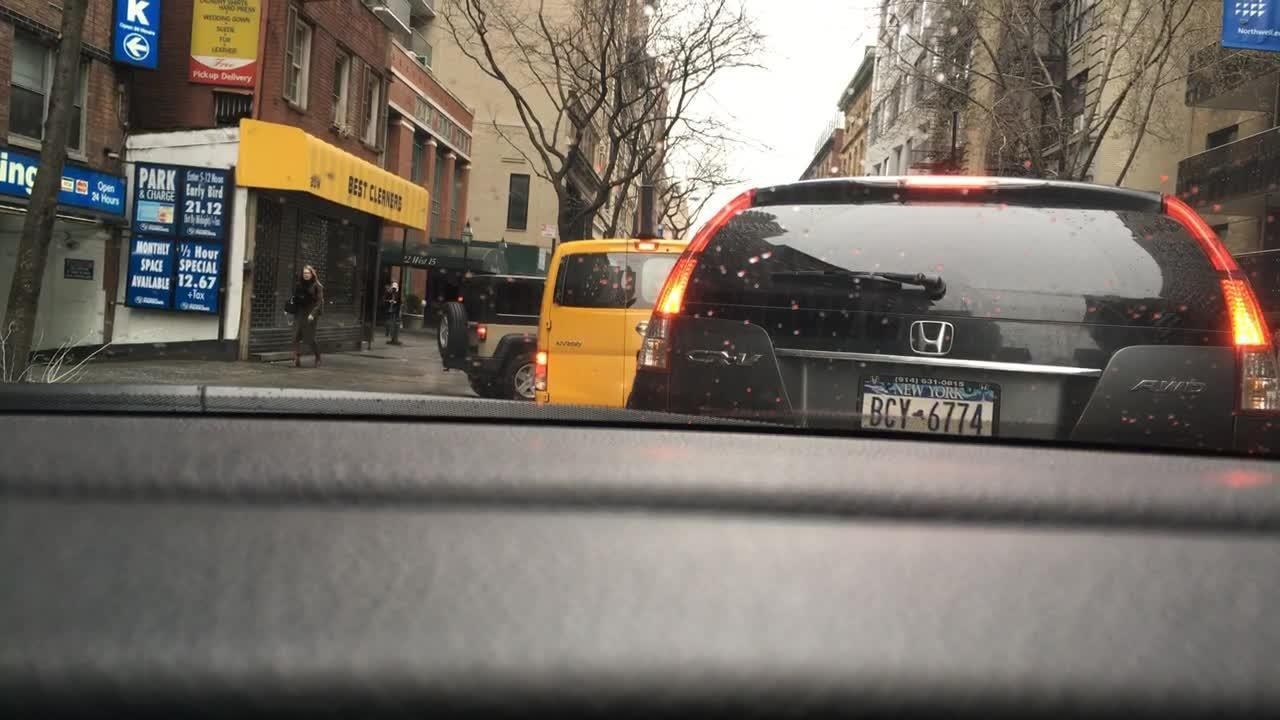Honda: (906, 314, 957, 359)
Nissan: (629, 317, 654, 338)
